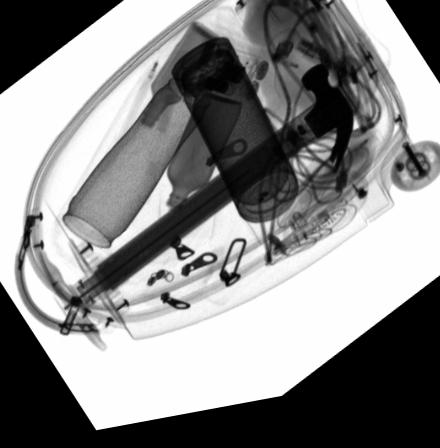Hammer: (91, 74, 353, 301)
